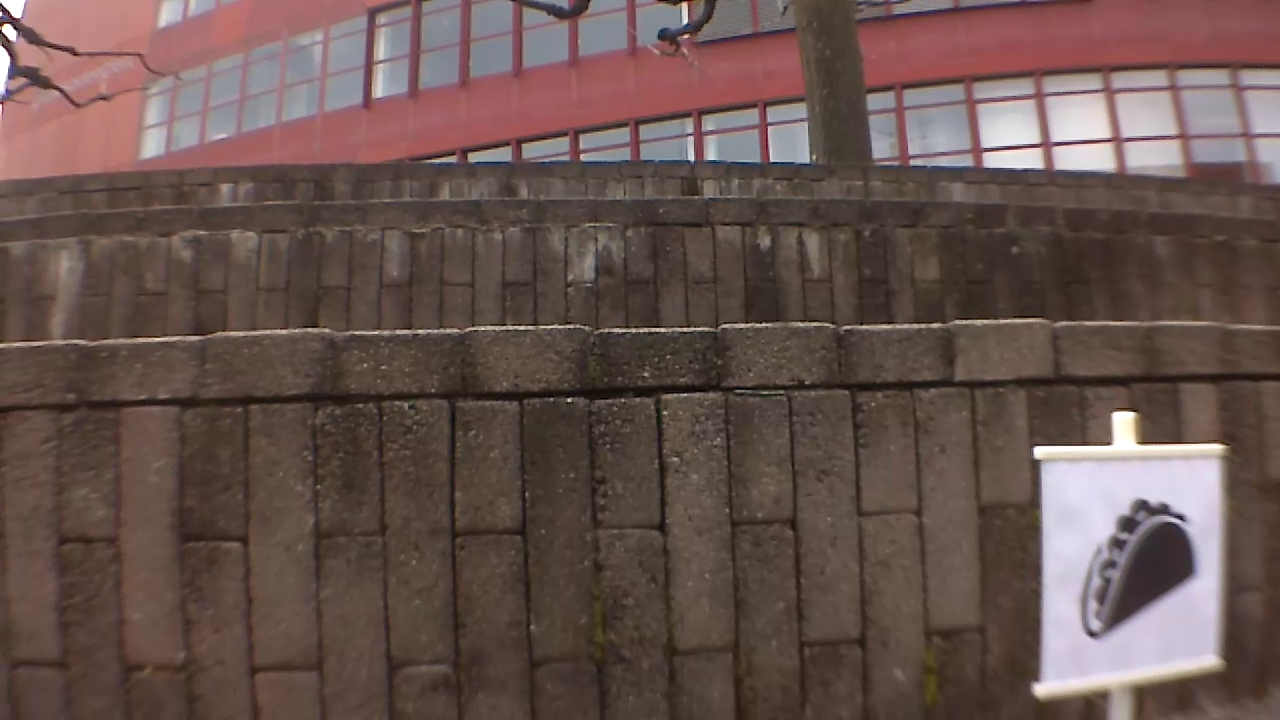taco: (1068, 491, 1204, 645)
